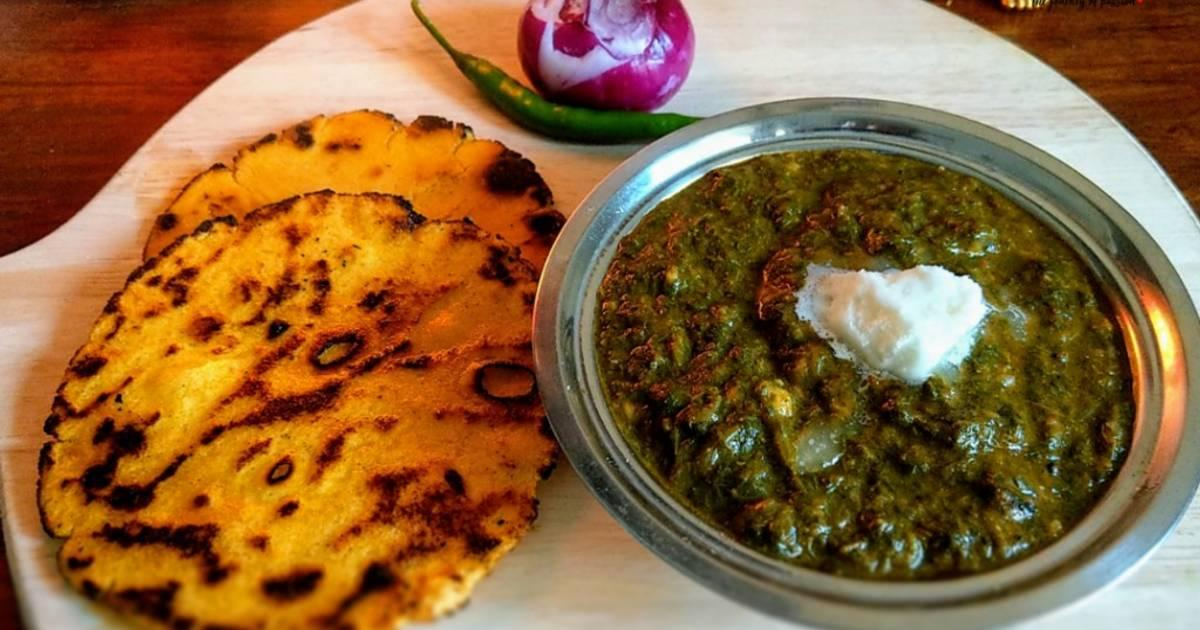saag: (599, 148, 1143, 573)
